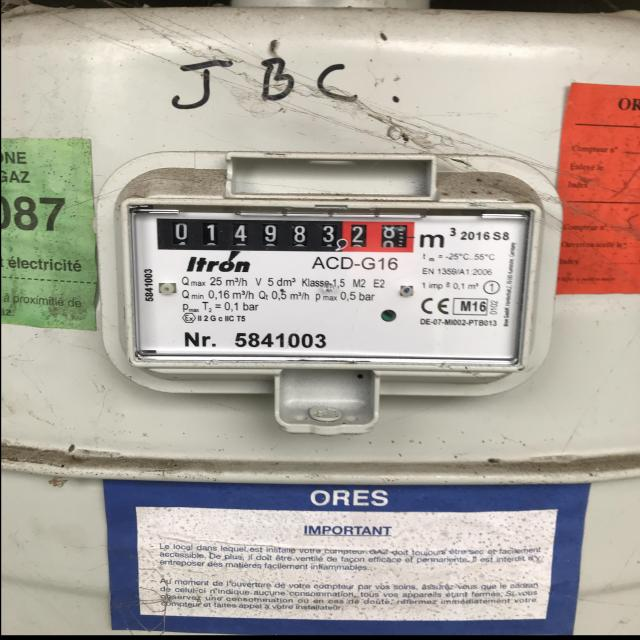gaz_meter: (124, 199, 522, 363)
indication: (157, 216, 413, 253)
